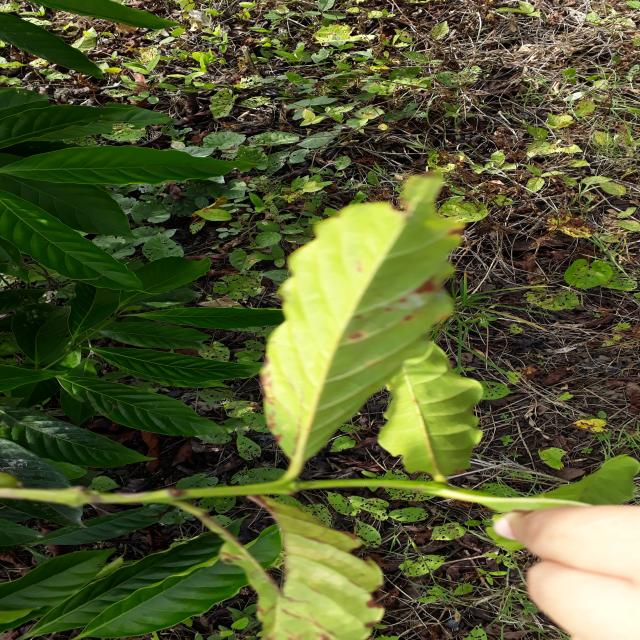Plaga-AranaRoja: (261, 173, 465, 484)
